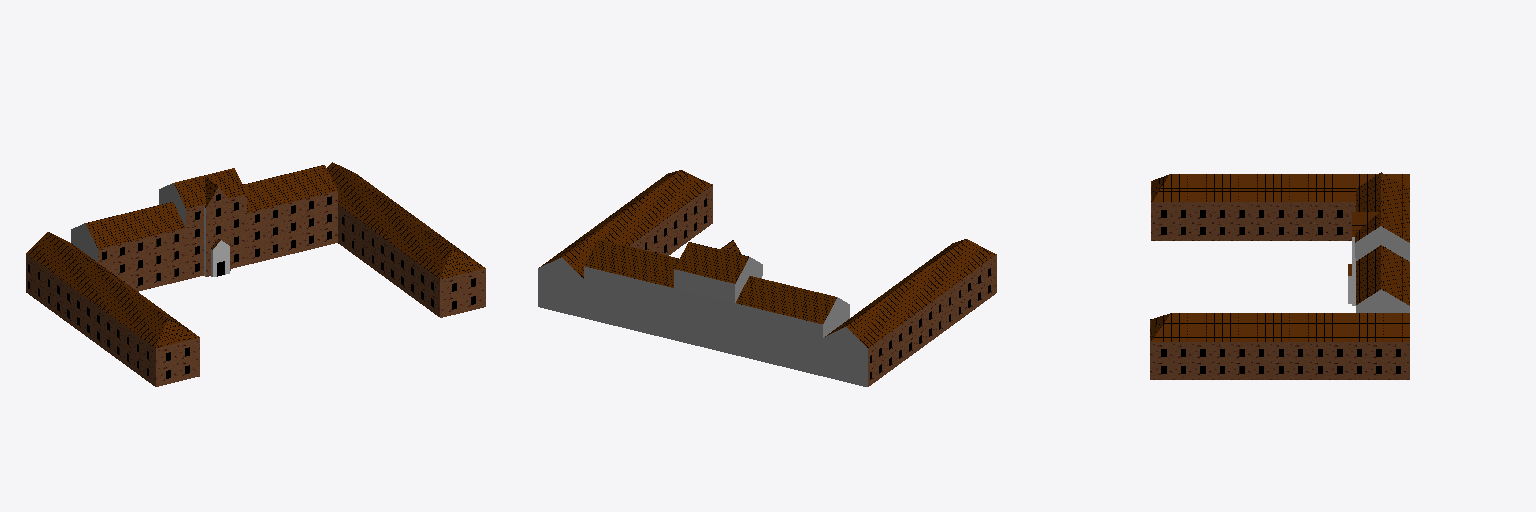
3 renders of one model, left to right at view 1: azimuth 30°, elevation 25°; view 2: azimuth 150°, elevation 25°; view 3: azimuth 270°, elevation 25°, orthographic.
Size of the model in its own units: 47.99 by 12.27 by 32.76.
9 materials, 3 textured.